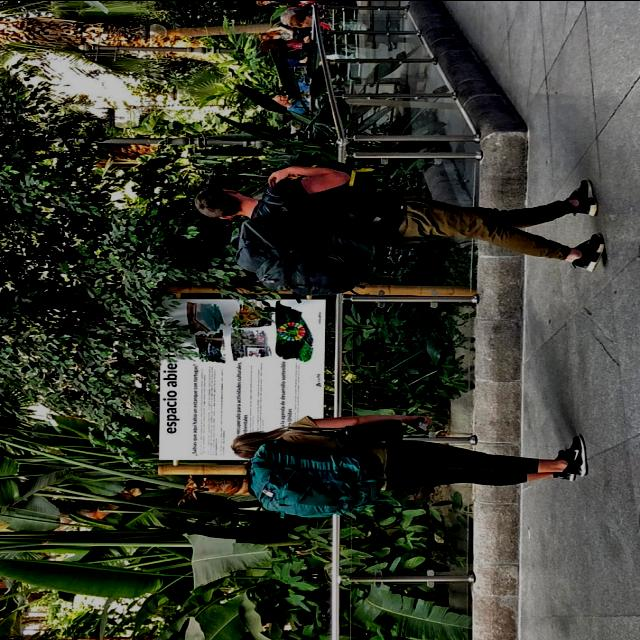backpack: (229, 206, 425, 300), (248, 441, 387, 519)
